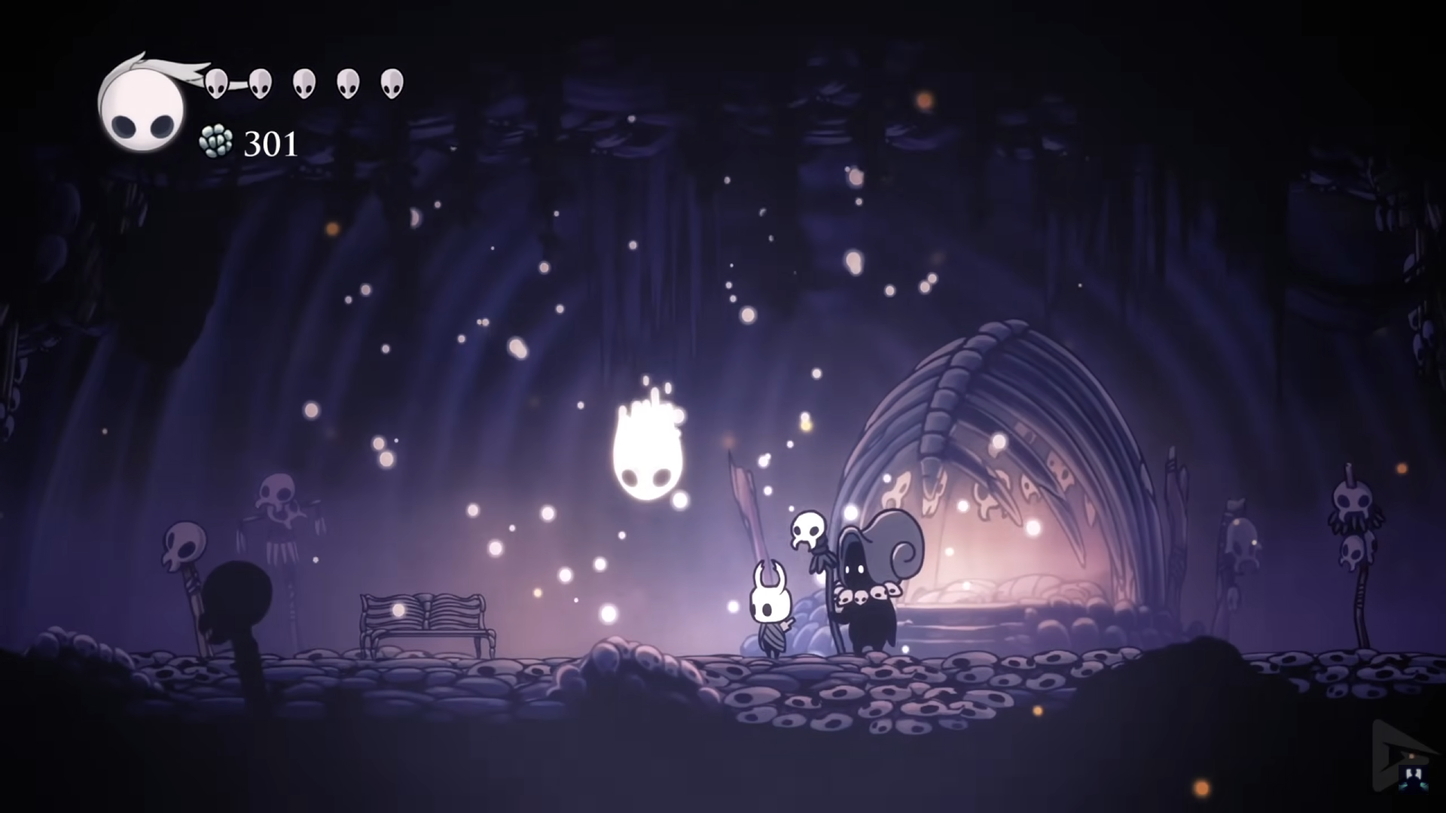HK: (741, 558, 799, 661)
